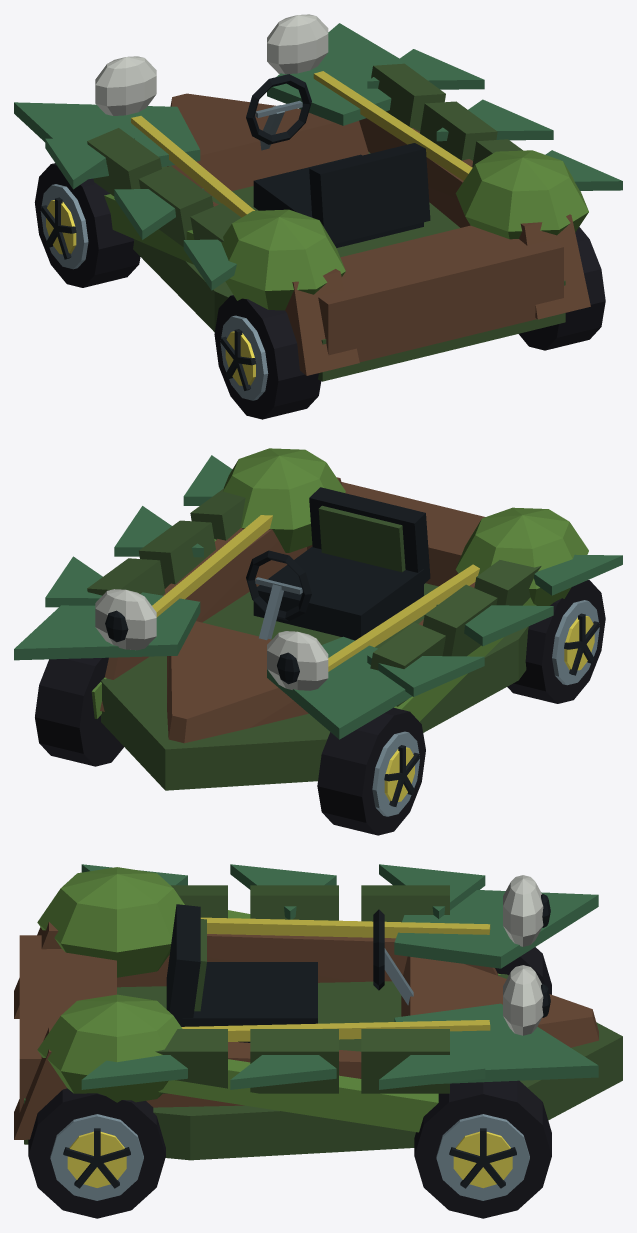
File: kart.glb
The picture shows the model from 3 angles, top to bottom: view 1: azimuth 30°, elevation 25°; view 2: azimuth 150°, elevation 25°; view 3: azimuth 270°, elevation 25°; orthographic projection. The views are drawn at different scales.
Visible parts, largest first — view 1: identity-nature-nature-root-cradle-and-leaf-bow, identity-nature-driver-cockpit, identity-nature-motif-armor, identity-nature-motif-leaves, wheel-rear-left, wheel-front-left, identity-nature-motif-eyes, wheel-rear-right; view 2: identity-nature-nature-root-cradle-and-leaf-bow, identity-nature-driver-cockpit, identity-nature-motif-armor, identity-nature-motif-leaves, wheel-front-left, wheel-rear-left, wheel-front-right, identity-nature-motif-eyes; view 3: identity-nature-nature-root-cradle-and-leaf-bow, identity-nature-motif-armor, wheel-front-right, wheel-rear-right, identity-nature-driver-cockpit, identity-nature-motif-leaves, identity-nature-motif-eyes, wheel-front-left.
Part boxes in pixels (left/top/right/bottom): identity-nature-nature-root-cradle-and-leaf-bow: left=14, top=23, right=590, bottom=381; identity-nature-driver-cockpit: left=246, top=74, right=430, bottom=247; identity-nature-motif-armor: left=87, top=63, right=522, bottom=246; identity-nature-motif-leaves: left=45, top=49, right=622, bottom=290; wheel-rear-left: left=214, top=295, right=321, bottom=419; wheel-front-left: left=34, top=163, right=140, bottom=287; identity-nature-motif-eyes: left=95, top=14, right=328, bottom=115; wheel-rear-right: left=519, top=227, right=605, bottom=350; identity-nature-nature-root-cradle-and-leaf-bow: left=14, top=448, right=588, bottom=790; identity-nature-driver-cockpit: left=246, top=487, right=430, bottom=640; identity-nature-motif-armor: left=87, top=488, right=541, bottom=706; identity-nature-motif-leaves: left=45, top=455, right=622, bottom=696; wheel-front-left: left=317, top=707, right=425, bottom=835; wheel-rear-left: left=507, top=580, right=605, bottom=703; wheel-front-right: left=35, top=657, right=123, bottom=766; identity-nature-motif-eyes: left=95, top=589, right=328, bottom=690; identity-nature-nature-root-cradle-and-leaf-bow: left=14, top=867, right=622, bottom=1160; identity-nature-motif-armor: left=155, top=885, right=449, bottom=1093; wheel-front-right: left=414, top=1080, right=551, bottom=1218; wheel-rear-right: left=28, top=1088, right=165, bottom=1218; identity-nature-driver-cockpit: left=166, top=904, right=413, bottom=1042; identity-nature-motif-leaves: left=81, top=864, right=485, bottom=1089; identity-nature-motif-eyes: left=503, top=875, right=550, bottom=1035; wheel-front-left: left=495, top=947, right=551, bottom=994.
Size of the model in its own units: 2.3 by 1.09 by 2.75.
